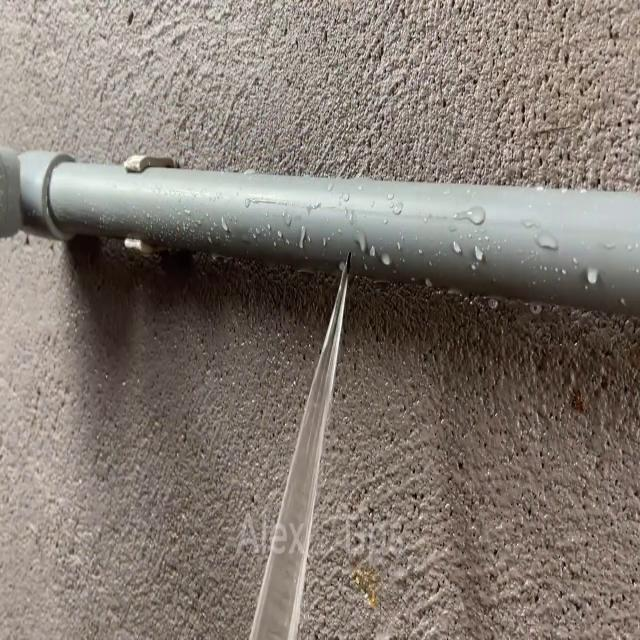leak: (247, 246, 350, 640)
